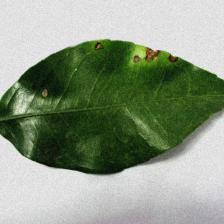canker: (29, 29, 188, 100)
